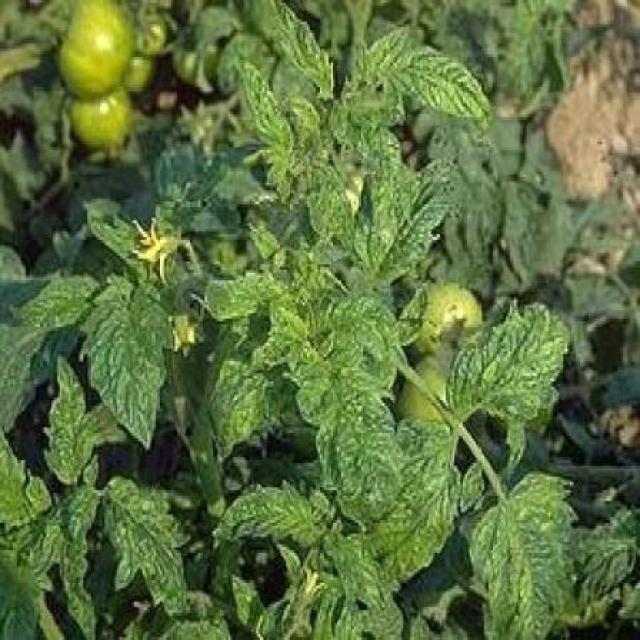Yellow Leaf Curl Virus: (467, 465, 595, 640), (296, 326, 405, 521), (82, 253, 182, 458), (446, 294, 578, 436), (191, 302, 303, 464), (367, 422, 464, 587), (351, 151, 466, 288), (210, 465, 340, 569), (364, 40, 502, 134), (101, 474, 188, 613), (228, 41, 298, 183)
